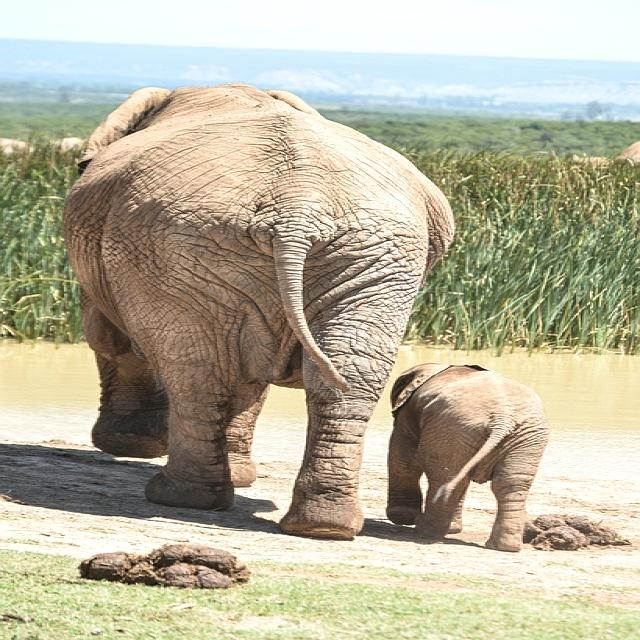FIL: (64, 79, 450, 542), (394, 357, 528, 552)
